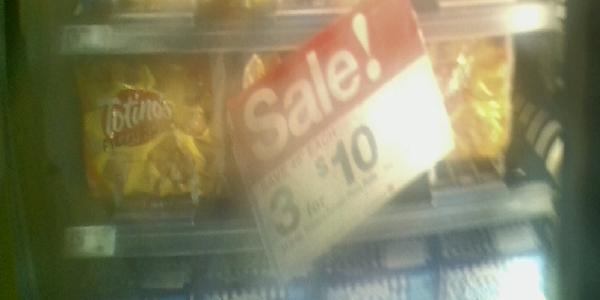icecream: (232, 58, 431, 216), (69, 56, 234, 219), (409, 32, 541, 195)
